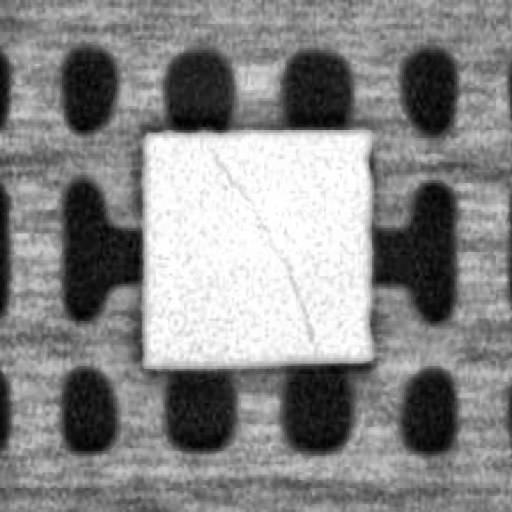DIE_CRACK: (210, 151, 320, 353)
